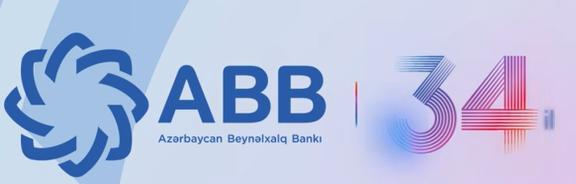ABB: (0, 28, 150, 178)
